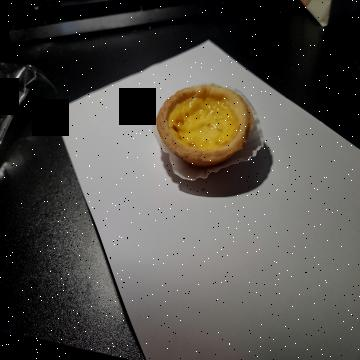EggTart: (156, 83, 253, 171)
